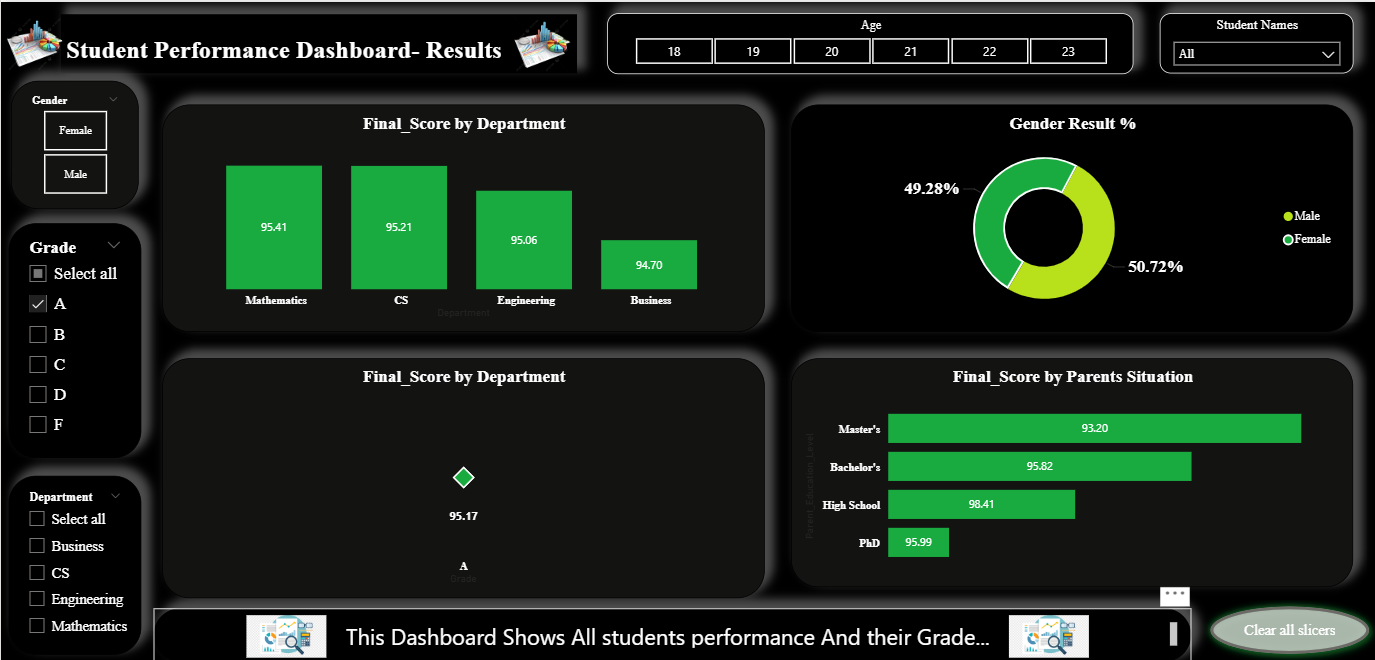

This screenshot's page, from the dashboard's own definition file:
{"tool":"powerbi","page":{"name":"Result","canvas":[1500,720],"ordinal":1},"visuals":[{"type":"textbox","box":[65.4,13.6,562.8,64],"z":0},{"type":"image","box":[553.2,8.2,73.6,77.7],"z":1000},{"type":"slicer","title":"Age","fields":{"Values":["Students performance analysis.Age"]},"box":[661.2,12.3,573.7,66.8],"z":2000},{"type":"slicer","title":"Student Names","fields":{"Values":["Students performance analysis.Name"]},"box":[1263.5,12.3,211.2,65.4],"z":3000},{"type":"image","box":[0,6.8,73.6,77.7],"z":4000},{"type":"slicer","fields":{"Values":["Students performance analysis.Department"]},"box":[8.2,516.4,144.4,194.9],"z":5000},{"type":"slicer","fields":{"Values":["Students performance analysis.Grade"]},"box":[8.2,241.2,144.4,256.2],"z":6000},{"type":"slicer","fields":{"Values":["Students performance analysis.Gender"]},"box":[10.9,85.8,139,140.4],"z":7000},{"type":"actionButton","box":[1309.2,650,190.8,69.5],"z":8000},{"type":"textbox","box":[166.2,660.9,1131,58.6],"z":9000},{"type":"image","box":[250.7,663.6,121.3,55.9],"z":10000},{"type":"image","box":[1081.9,663.6,121.3,55.9],"z":11000},{"type":"columnChart","title":"Final_Score by Department","fields":{"Category":["Students performance analysis.Department"],"Y":["Students performance analysis.Final_Score"]},"box":[175.8,111.7,656.8,248],"z":12000},{"type":"barChart","title":"Final_Score by Parents Situation","fields":{"Y":["Students performance analysis.Final_Score"],"Category":["Students performance analysis.Parent_Education_Level"]},"box":[861.2,388.4,613.2,249.4],"z":13000},{"type":"donutChart","title":"Gender Result %","fields":{"Category":["Students performance analysis.Gender"],"Y":["Students performance analysis.Final_Score"]},"box":[861.2,111.7,613.2,248],"z":14000},{"type":"stackedAreaChart","title":"Final_Score by Department","fields":{"Y":["Students performance analysis.Final_Score"],"Category":["Students performance analysis.Grade"]},"box":[175.8,388.4,656.8,261.6],"z":15000}]}

Visuals, with their boxes in screenshot pixels (x1, y1, x2, y2), scaled from the page's 1500x720 canvas onto the 1375x660 screenshot:
textbox: {"x1": 60, "y1": 12, "x2": 576, "y2": 71}
image: {"x1": 507, "y1": 8, "x2": 575, "y2": 79}
"Age" slicer: {"x1": 606, "y1": 11, "x2": 1132, "y2": 73}
"Student Names" slicer: {"x1": 1158, "y1": 11, "x2": 1352, "y2": 71}
image: {"x1": 0, "y1": 6, "x2": 67, "y2": 77}
slicer - Students performance analysis.Department: {"x1": 8, "y1": 473, "x2": 140, "y2": 652}
slicer - Students performance analysis.Grade: {"x1": 8, "y1": 221, "x2": 140, "y2": 456}
slicer - Students performance analysis.Gender: {"x1": 10, "y1": 79, "x2": 137, "y2": 207}
actionButton: {"x1": 1200, "y1": 596, "x2": 1374, "y2": 659}
textbox: {"x1": 152, "y1": 606, "x2": 1189, "y2": 659}
image: {"x1": 230, "y1": 608, "x2": 341, "y2": 659}
image: {"x1": 992, "y1": 608, "x2": 1103, "y2": 659}
"Final_Score by Department" columnChart: {"x1": 161, "y1": 102, "x2": 763, "y2": 330}
"Final_Score by Parents Situation" barChart: {"x1": 789, "y1": 356, "x2": 1352, "y2": 585}
"Gender Result %" donutChart: {"x1": 789, "y1": 102, "x2": 1352, "y2": 330}
"Final_Score by Department" stackedAreaChart: {"x1": 161, "y1": 356, "x2": 763, "y2": 596}
